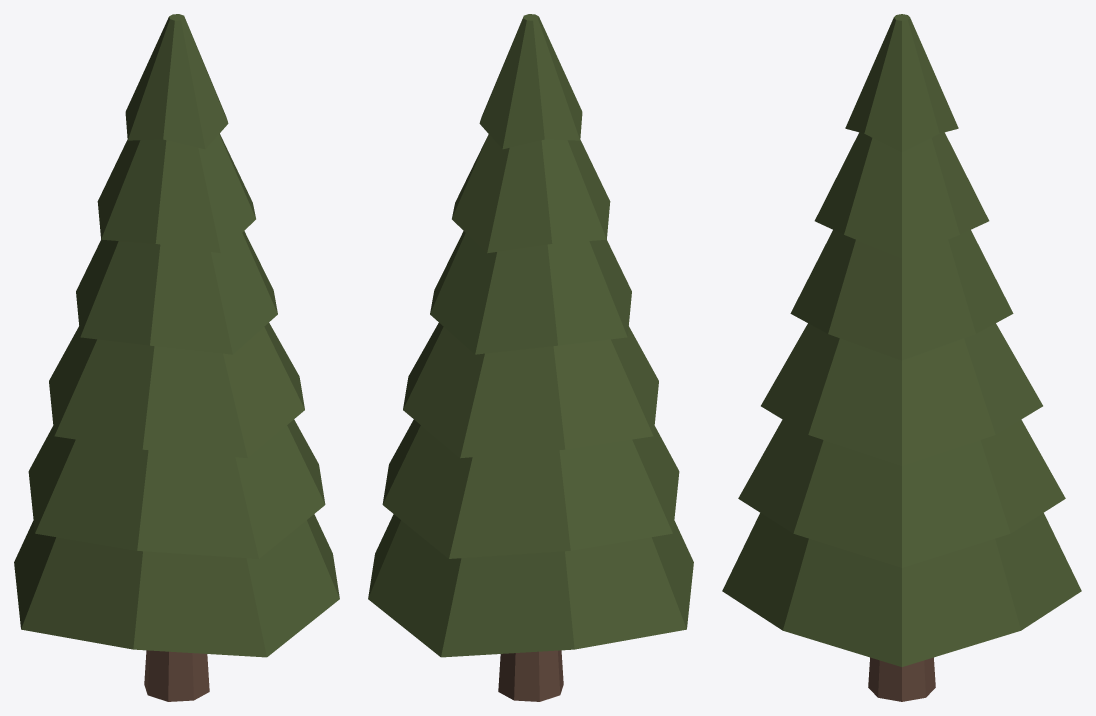
The model's file is pine.glb.
3 views of the same model, side by side, from view 1: azimuth 30°, elevation 25°; view 2: azimuth 150°, elevation 25°; view 3: azimuth 270°, elevation 25° (orthographic).
Parts seen in each view (by area): view 1: Cylinder.009; view 2: Cylinder.009; view 3: Cylinder.009.
Boxes of the visible parts, box(x1,y1,x2,y2) form: Cylinder.009: box(14, 14, 339, 701); Cylinder.009: box(368, 14, 693, 701); Cylinder.009: box(722, 14, 1081, 701).
Size of the model in its own units: 2.94 by 6.04 by 2.94.
